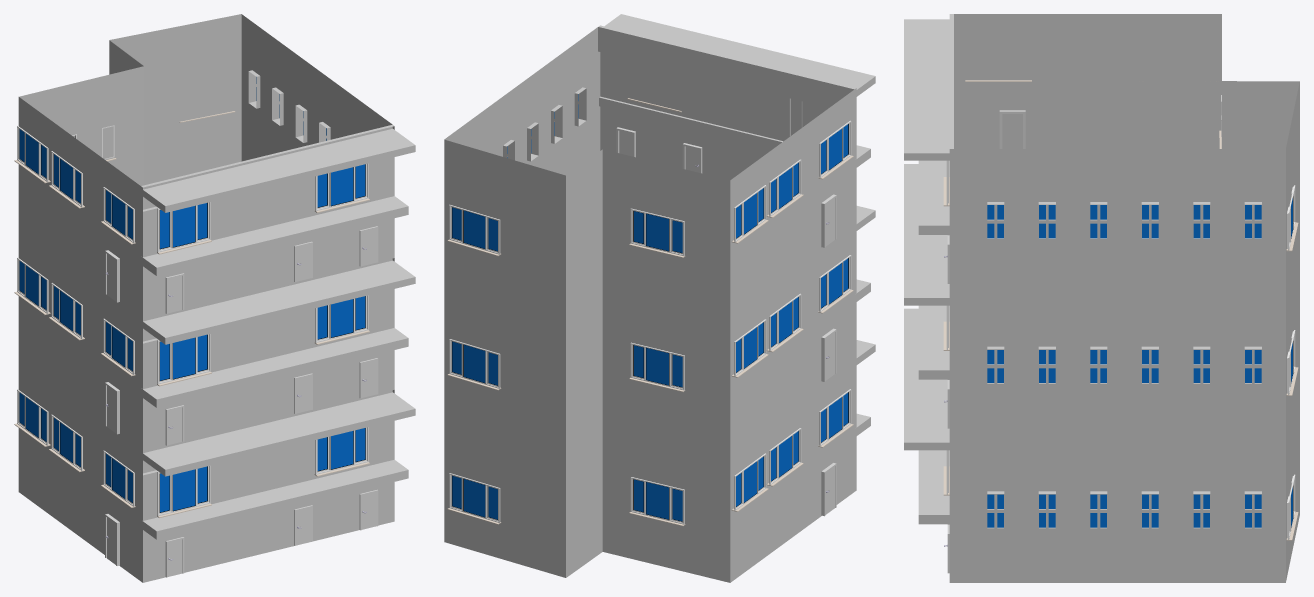
File: solene immeuble01____.fbx
3 views of the same model, side by side, from view 1: azimuth 30°, elevation 25°; view 2: azimuth 150°, elevation 25°; view 3: azimuth 270°, elevation 25° (orthographic). The views are drawn at different scales.
Parts seen in each view (by area): view 1: Plane.005; view 2: Plane.005; view 3: Plane.005.
Part boxes in pixels (bbox=[...]): Plane.005: bbox=[14, 14, 415, 582]; Plane.005: bbox=[444, 14, 875, 582]; Plane.005: bbox=[904, 14, 1299, 582].
Bounding box in the file's own units: 209 × 300 × 248.
